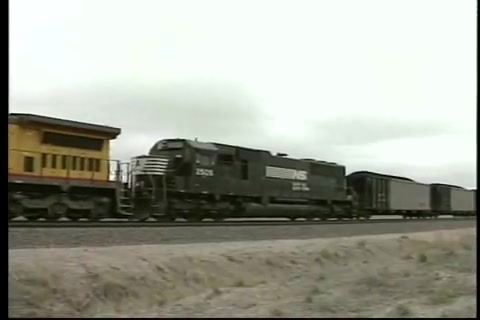train: (10, 110, 478, 222)
